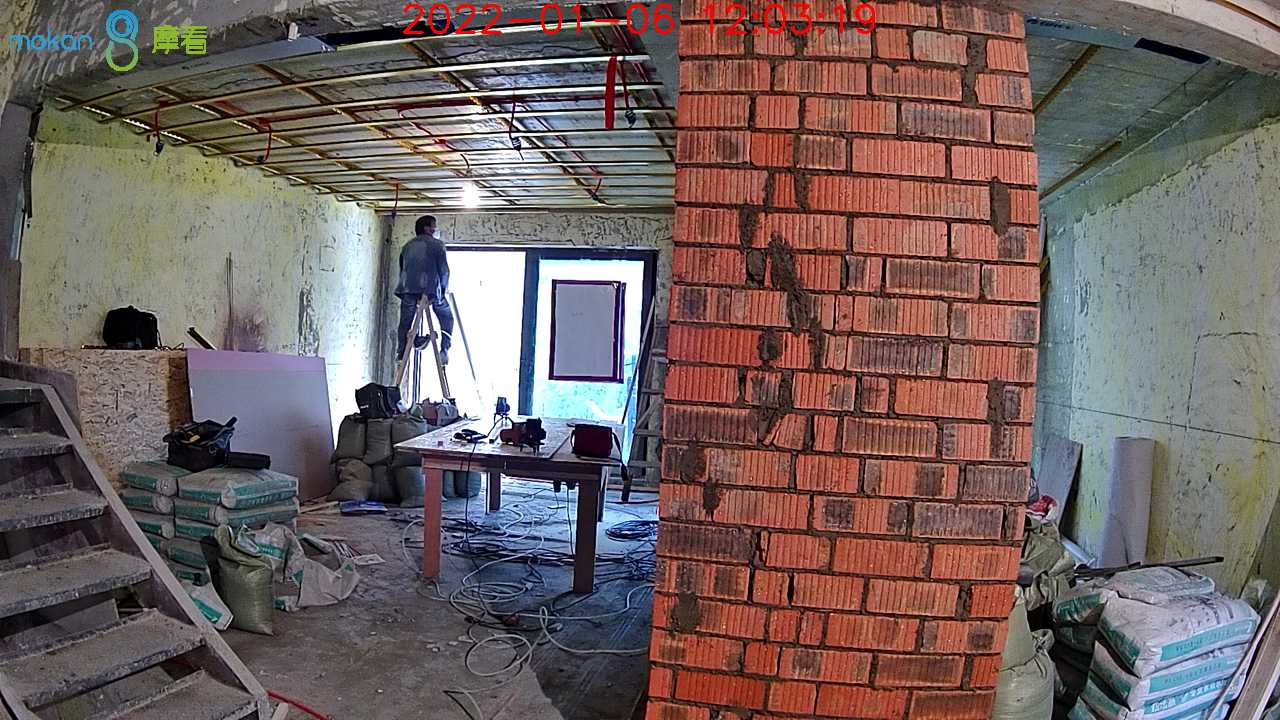people: (399, 218, 455, 365)
window: (423, 245, 653, 449)
